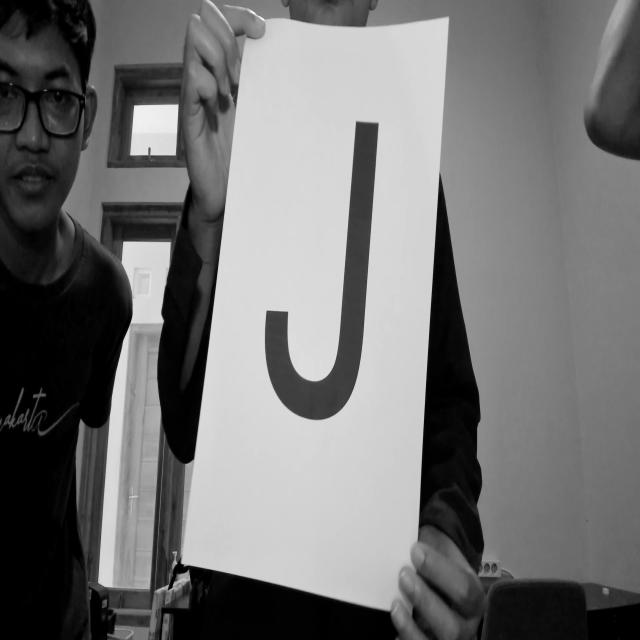j: (253, 112, 392, 444)
